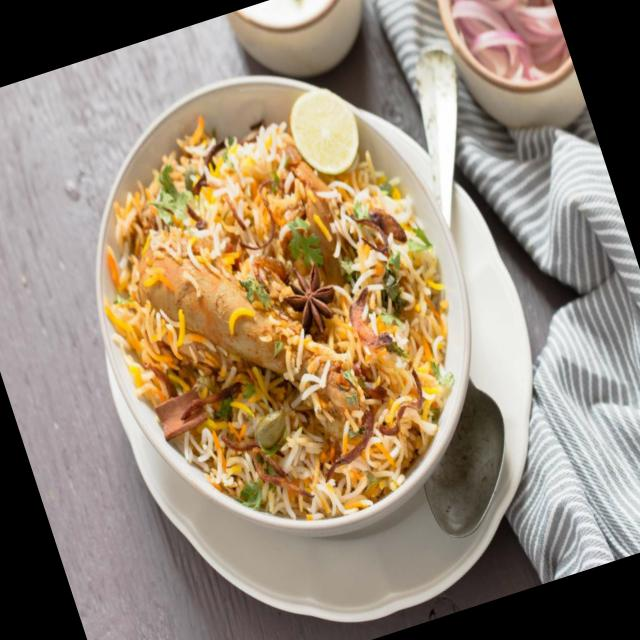Biryani: (54, 55, 507, 569)
